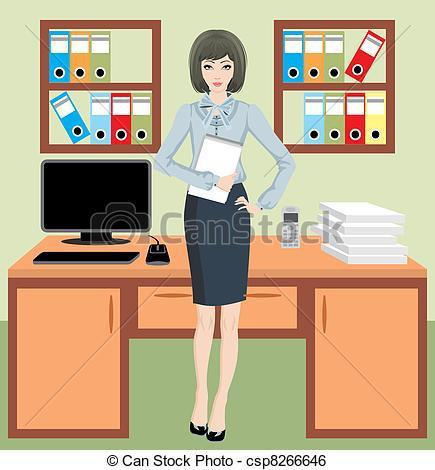person: (152, 24, 299, 442)
tvmonitor: (36, 157, 157, 245)
